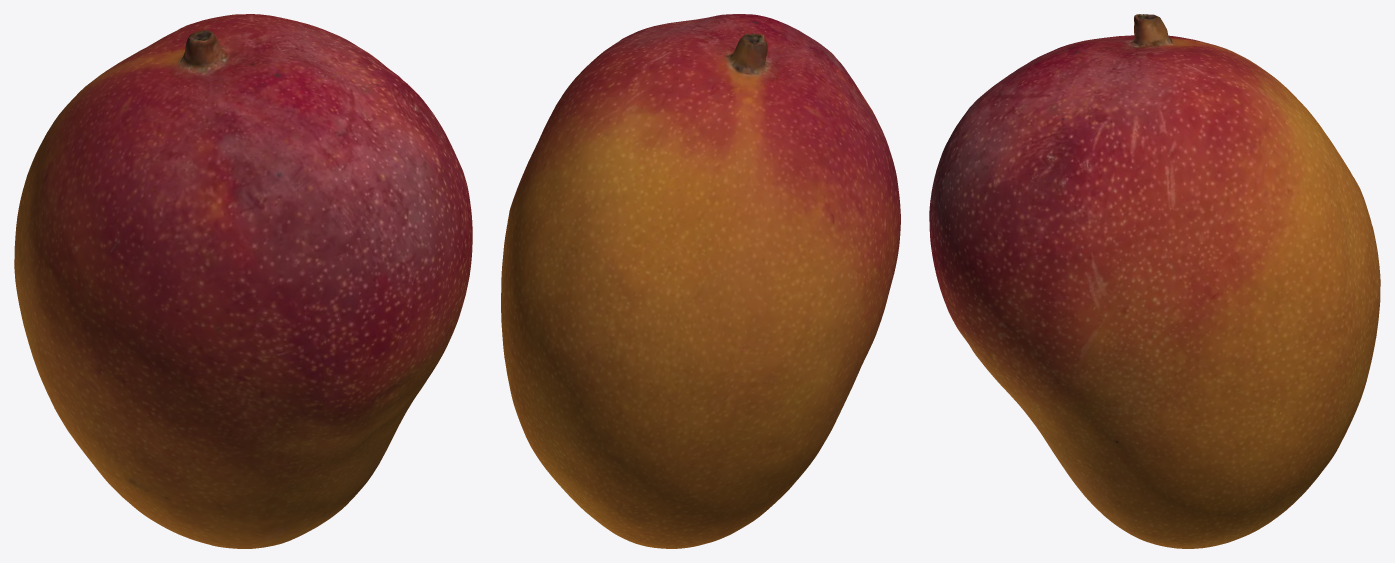
File: mango-1.glb
3 views of the same model, side by side, from view 1: azimuth 30°, elevation 25°; view 2: azimuth 150°, elevation 25°; view 3: azimuth 270°, elevation 25° (orthographic). The views are drawn at different scales.
Parts seen in each view (by area): view 1: Object_2; view 2: Object_2; view 3: Object_2.
Boxes of the visible parts, bbox=[...] form: Object_2: bbox=[14, 14, 472, 548]; Object_2: bbox=[501, 14, 900, 548]; Object_2: bbox=[929, 14, 1380, 548].
Size of the model in its own units: 0.063 by 0.0875 by 0.0724.
1 material, 1 textured.
